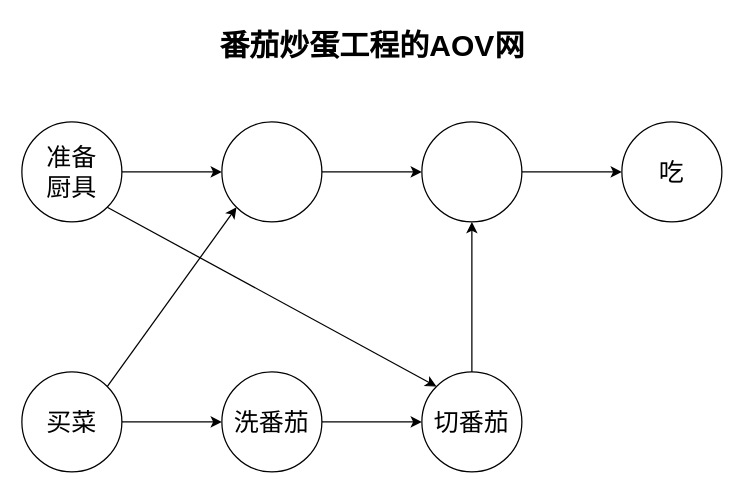
The diagram is 744 pixels wide and 494 high, and some of its shapes have lost their labels. Here are the shapes that lost their labels. From the top down, the centre of each, then its label:
At point 271,171: "打鸡蛋".
At point 471,171: "下锅炒".
